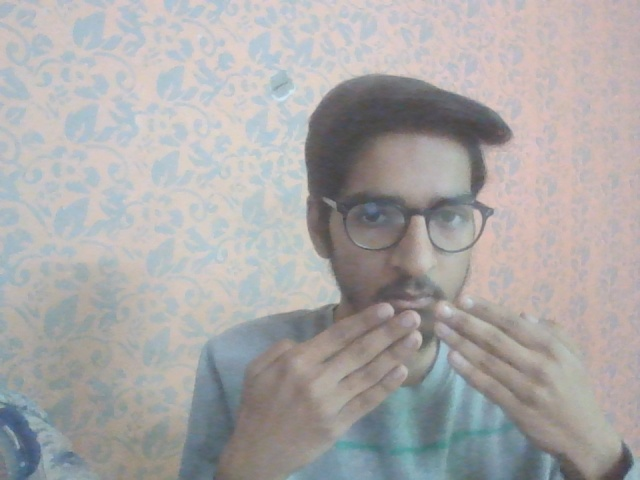ThankYou: (226, 295, 622, 476)
